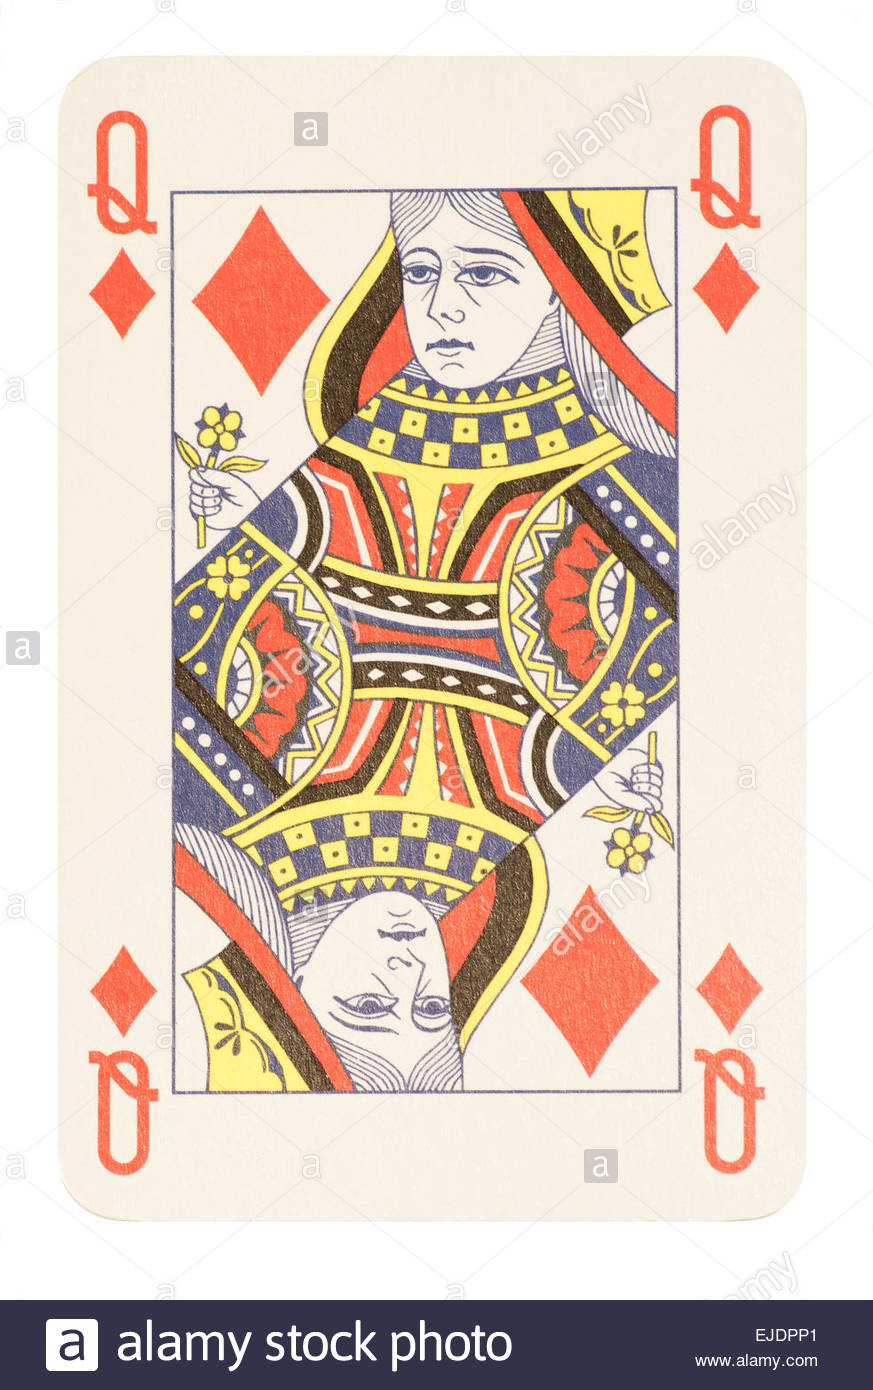queen of diamonds: (64, 64, 799, 1226)
